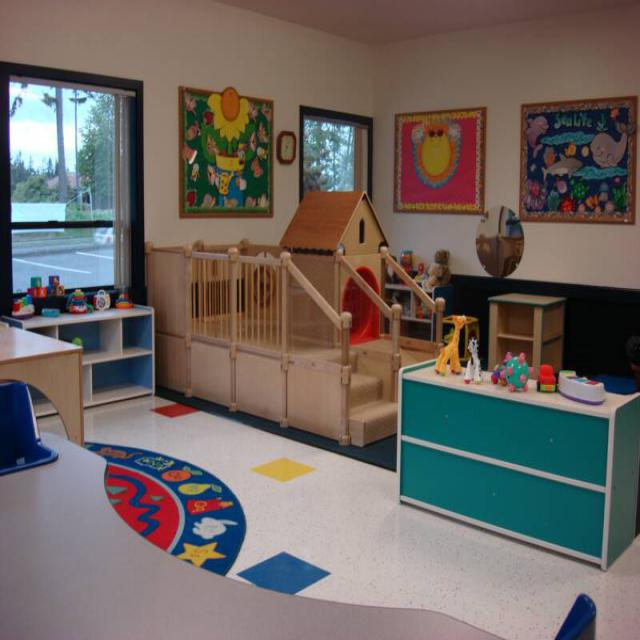2001: (0, 61, 145, 315)
2006: (300, 105, 373, 201)
ceiling beam: (216, 0, 638, 44)
clock crop: (277, 128, 296, 161)
floor -X: (0, 323, 638, 638)
poster crop: (518, 94, 638, 222), (176, 83, 273, 218), (393, 105, 485, 211)
shelves crop: (399, 354, 639, 567), (1, 298, 154, 417), (486, 290, 566, 379)
table lamp: (0, 321, 82, 439)
toy crio: (145, 188, 442, 445), (436, 315, 465, 373), (557, 369, 606, 403), (491, 350, 529, 391), (465, 336, 482, 381)
toys: (10, 273, 89, 316)
wall clock: (372, 0, 639, 425)
